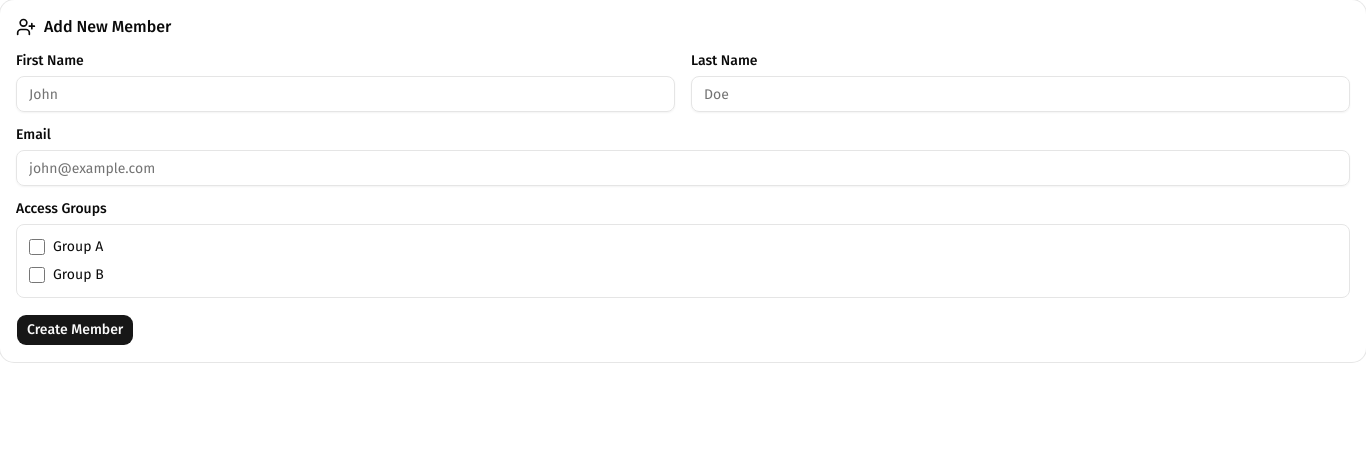
NewMemberForm › shows validation errors for empty required fields on submit
Step 1. Click the button "Create Member" → coordinates (75, 330), box left=16, top=314, right=134, bottom=346
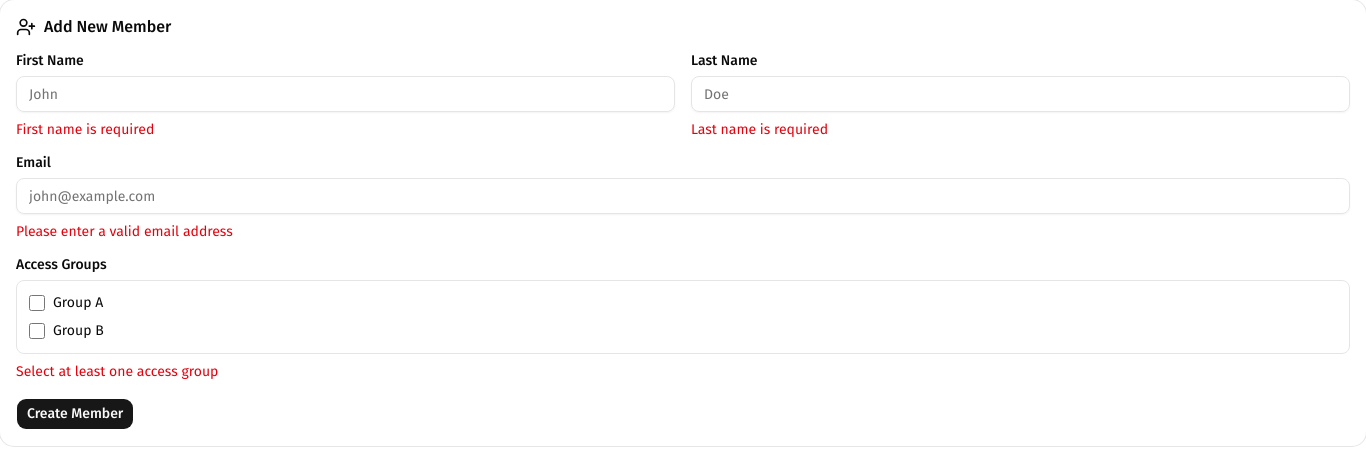
Expected: the text "First name is required" is shown, left=16, top=121, right=154, bottom=138
